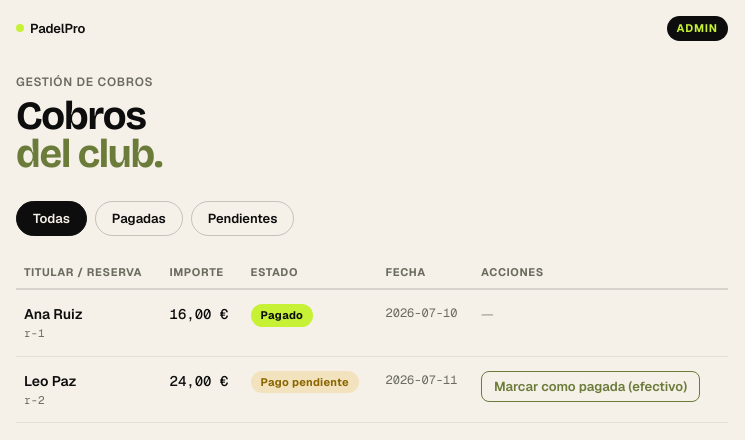
Test: AdminPagosPage › filtra Pagadas (oculta las pendientes)
The image size is (745, 440).
Expected: the text "Ana Ruiz" is shown, left=24, top=305, right=83, bottom=323
Step 1. Click the button "Pagadas" → {"x": 139, "y": 218}, box left=95, top=200, right=183, bottom=236
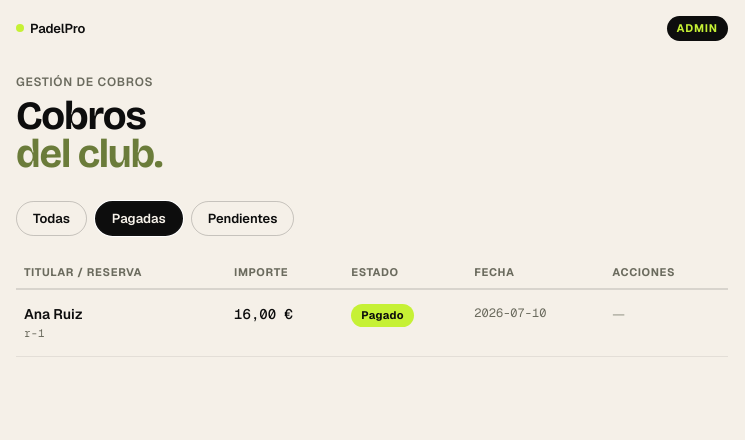
Expected: the text "Ana Ruiz" is shown, left=24, top=305, right=83, bottom=323
Now the text "Leo Paz" is gone
